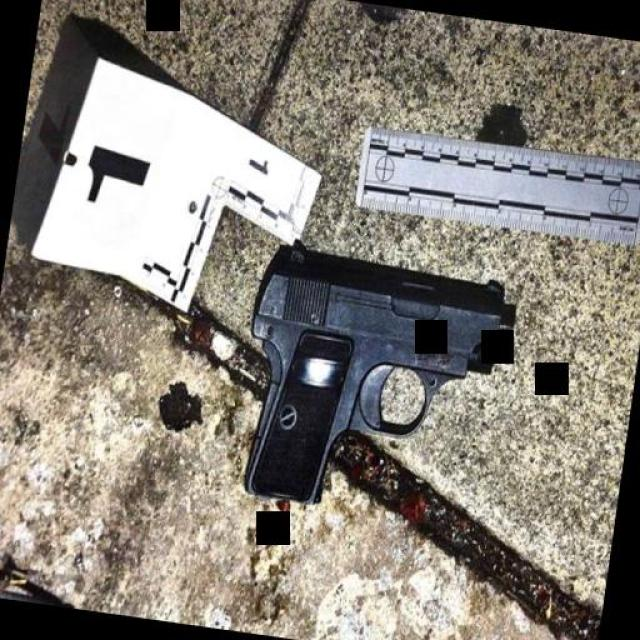gun: (232, 241, 518, 529)
